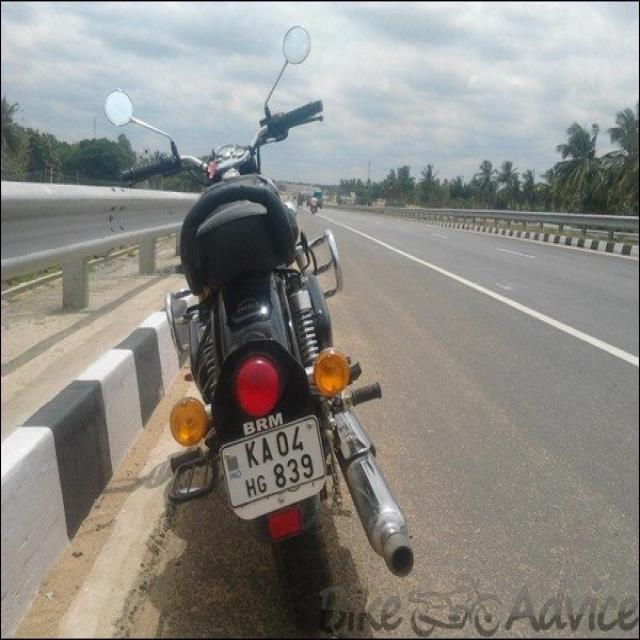number plate: (220, 413, 326, 509)
